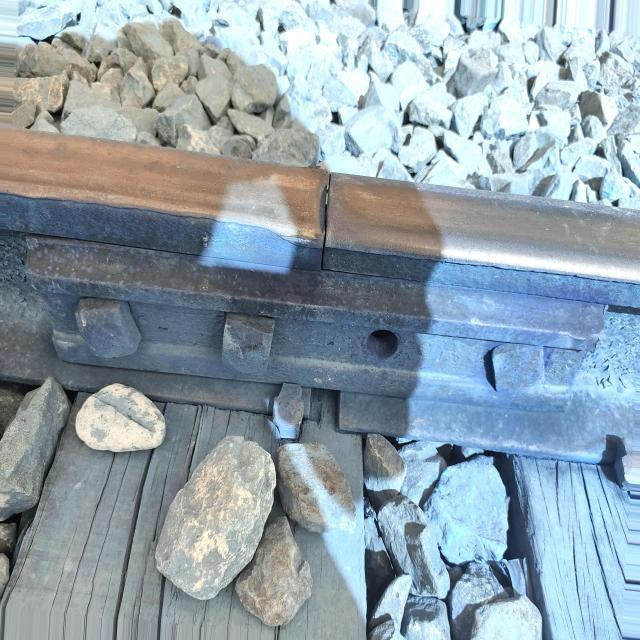Defective Joint: (30, 237, 608, 430)
